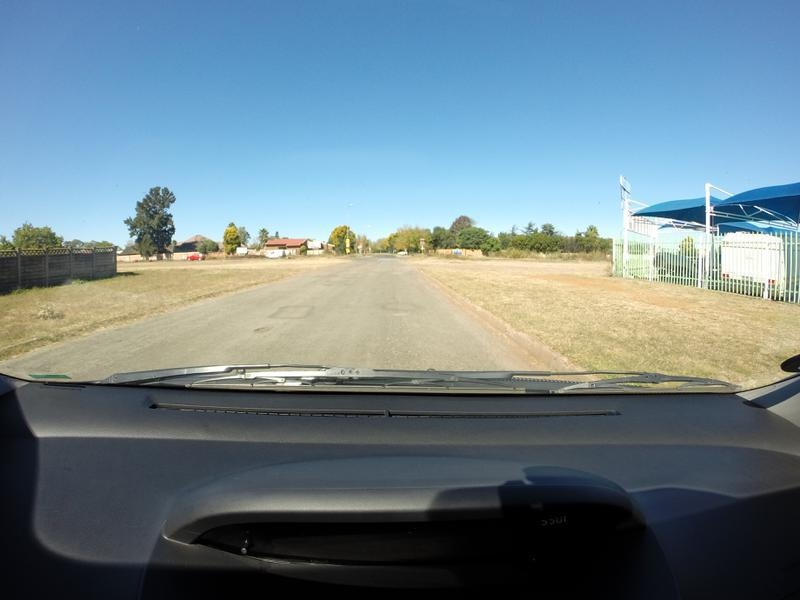pothole: (234, 318, 275, 344)
